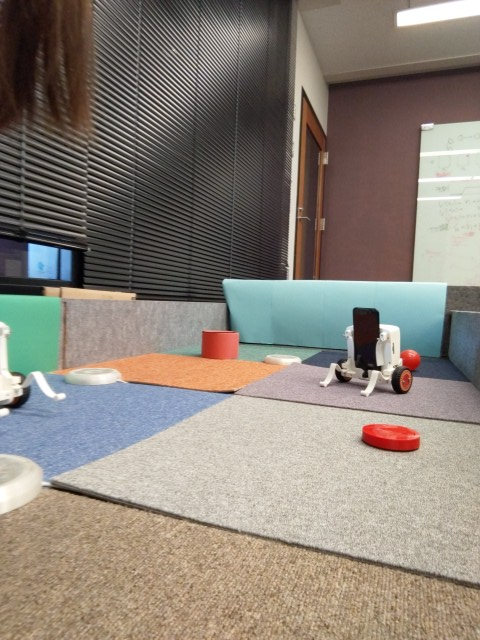br: (1, 314, 66, 423)
f: (324, 300, 415, 399)
o: (1, 449, 45, 516), (62, 363, 124, 388), (261, 348, 304, 370)
